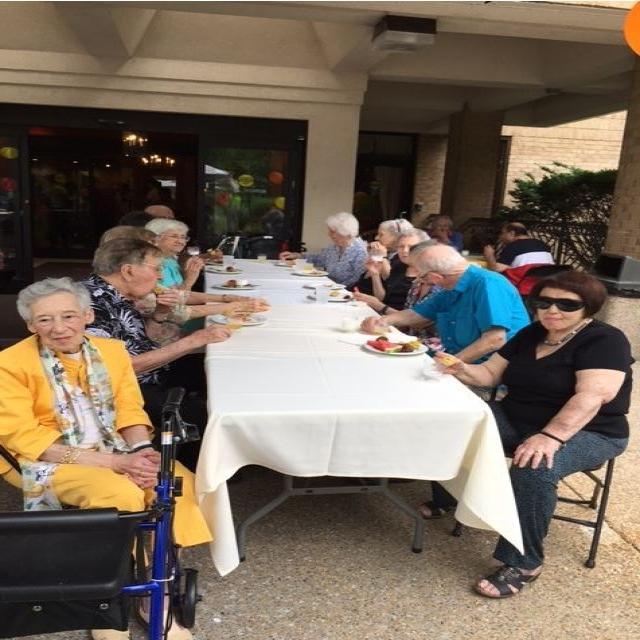body: (0, 273, 218, 639), (425, 267, 637, 600), (82, 235, 264, 420), (356, 241, 534, 402), (97, 225, 276, 351), (347, 226, 434, 318), (277, 210, 370, 289), (350, 218, 416, 310), (482, 221, 556, 300), (143, 217, 207, 291), (418, 212, 467, 252), (110, 201, 173, 229)
